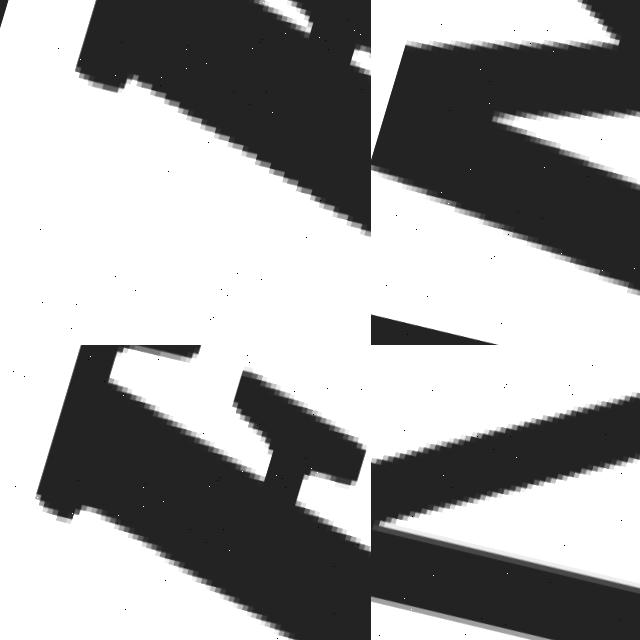E: (74, 0, 371, 240)
F: (0, 345, 371, 640)
M: (371, 0, 640, 345)
N: (371, 345, 640, 640)
